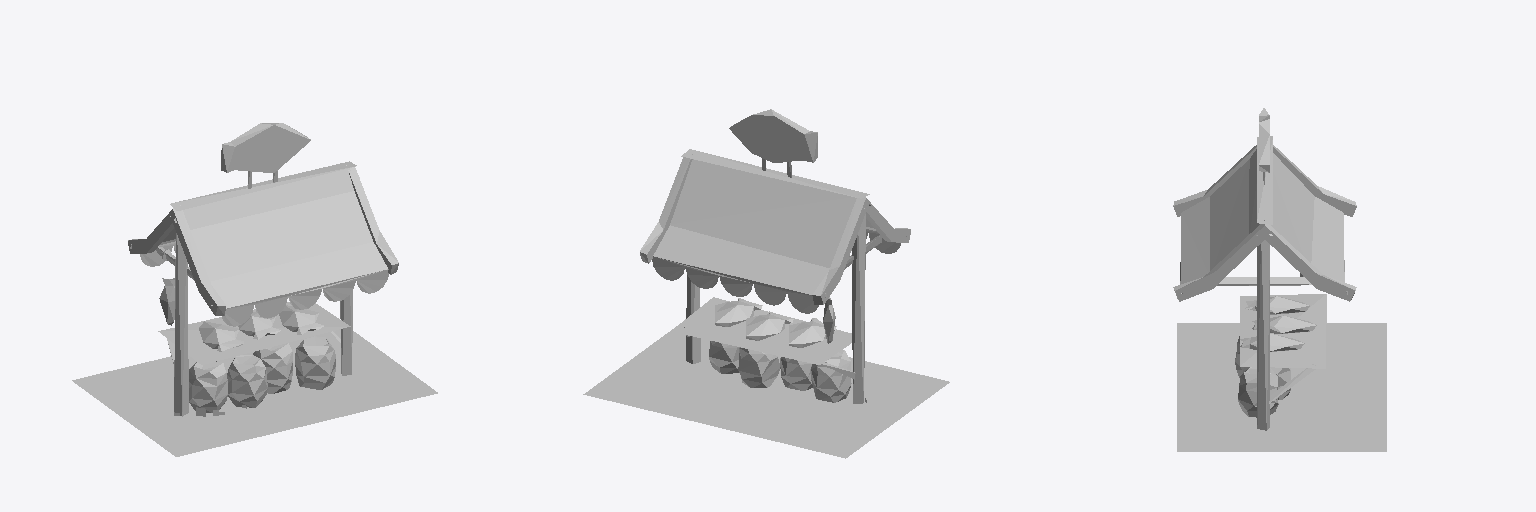
The model's file is shop.obj.
3 renders of one model, left to right at view 1: azimuth 30°, elevation 25°; view 2: azimuth 150°, elevation 25°; view 3: azimuth 270°, elevation 25°, orthographic.
Parts seen in each view (by area): view 1: arch_low; view 2: arch_low; view 3: arch_low.
Part boxes in pixels (bbox=[...]): arch_low: bbox=[72, 123, 437, 456]; arch_low: bbox=[583, 109, 949, 458]; arch_low: bbox=[1173, 108, 1386, 451].
Size of the model in its own units: 8.06 by 8.04 by 5.67.